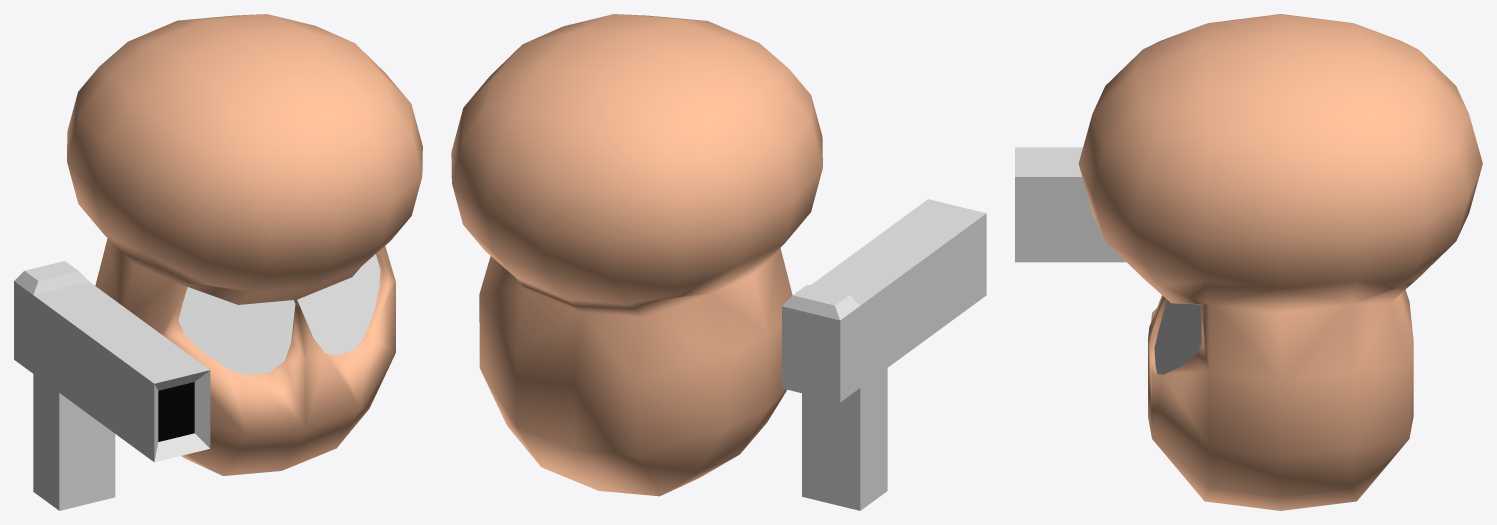
File: Gunner.fbx
The picture shows the model from 3 angles, left to right: view 1: azimuth 30°, elevation 25°; view 2: azimuth 150°, elevation 25°; view 3: azimuth 270°, elevation 25°; orthographic projection. The views are drawn at different scales.
Parts seen in each view (by area): view 1: Cube; view 2: Cube; view 3: Cube.
Boxes of the visible parts, x1,y1,x2,y2 form: Cube: (14, 14, 422, 510); Cube: (451, 14, 986, 510); Cube: (1015, 14, 1482, 510).
Bounding box in the file's own units: 300 × 325 × 307.
